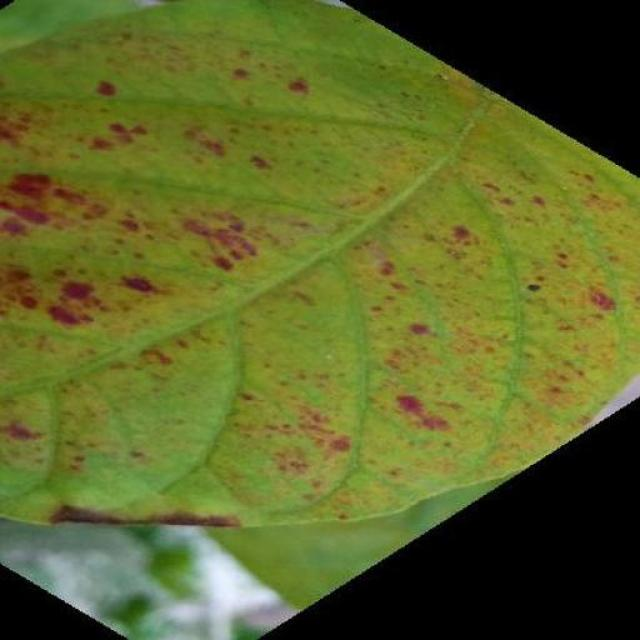Rust: (0, 0, 640, 526)
